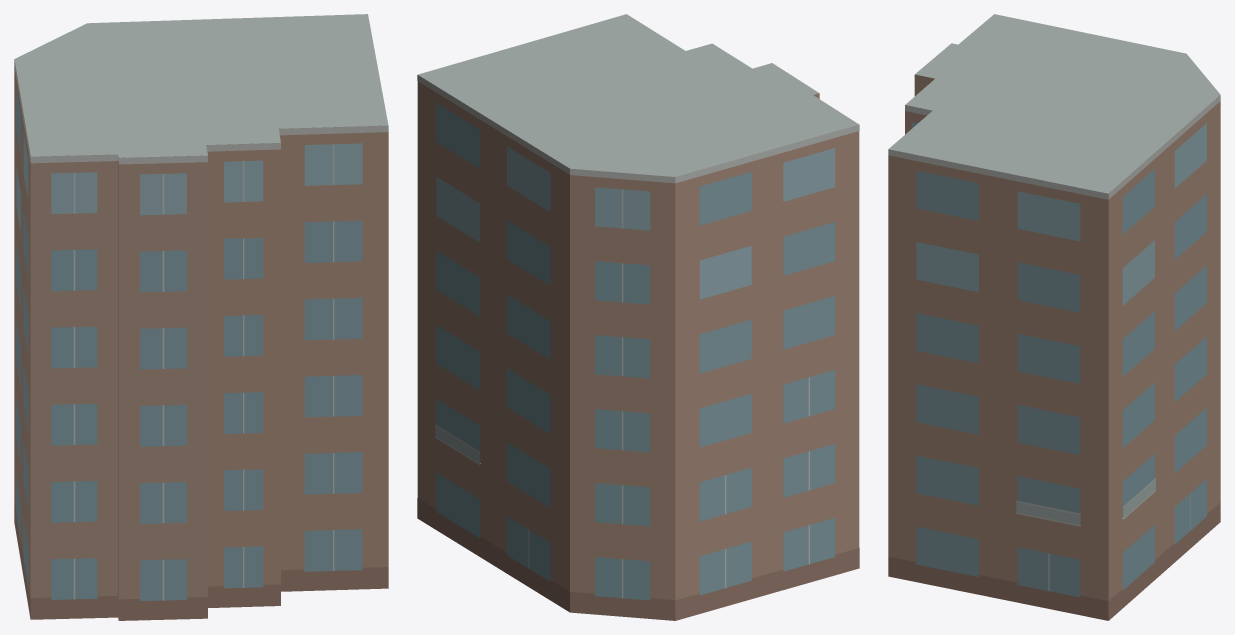
File: survey-upis-32531722.glb
The picture shows the model from 3 angles, left to right: view 1: azimuth 30°, elevation 25°; view 2: azimuth 150°, elevation 25°; view 3: azimuth 270°, elevation 25°; orthographic projection. The views are drawn at different scales.
Parts seen in each view (by area): view 1: survey-upis-32531722.tmp; view 2: survey-upis-32531722.tmp; view 3: survey-upis-32531722.tmp.
Boxes of the visible parts, x1,y1,x2,y2 form: survey-upis-32531722.tmp: (14, 14, 388, 620); survey-upis-32531722.tmp: (417, 14, 859, 620); survey-upis-32531722.tmp: (888, 14, 1220, 620).
Size of the model in its own units: 15.44 by 17.1 by 12.07.
